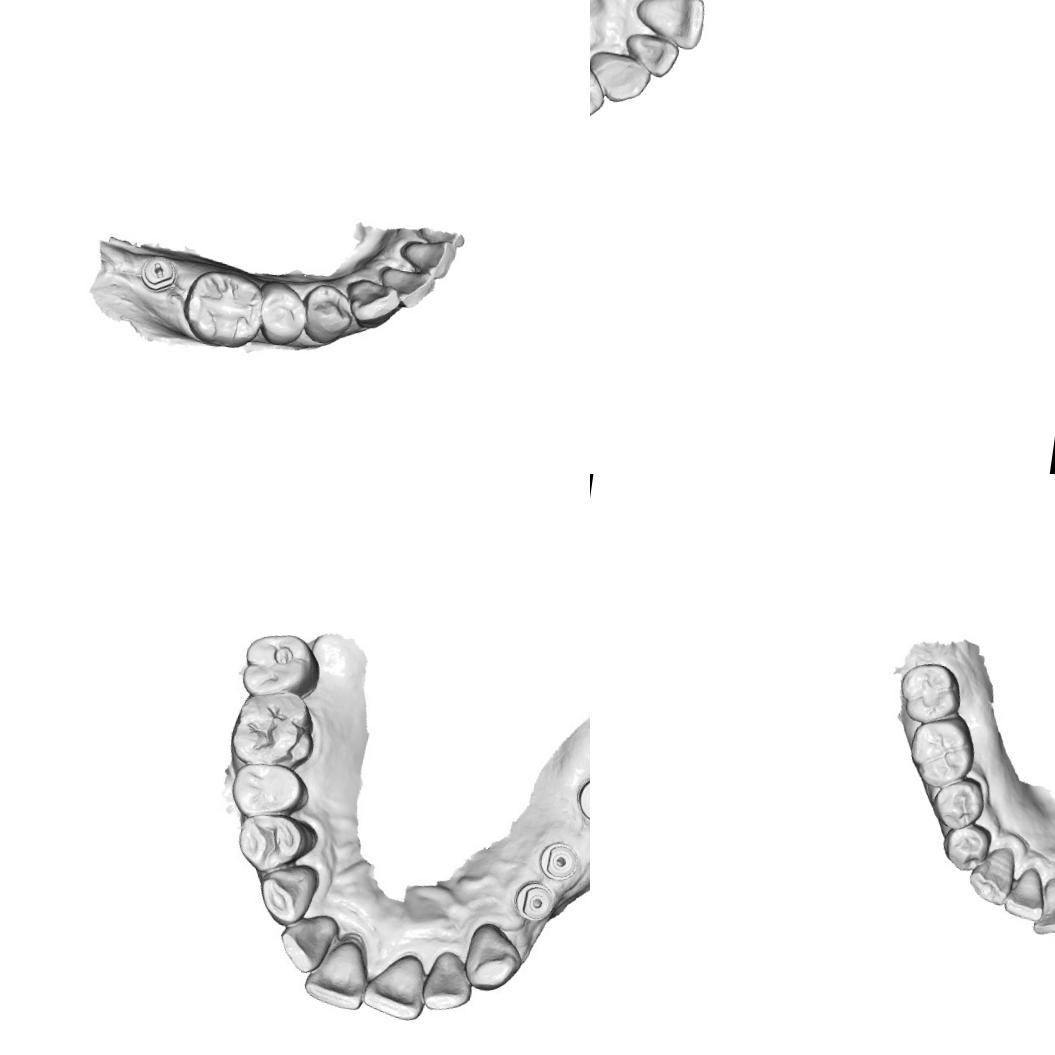canine: (461, 921, 527, 995), (590, 38, 657, 107), (255, 858, 318, 928), (341, 275, 404, 333), (964, 842, 1018, 908)
implant: (513, 878, 560, 933), (534, 836, 584, 880), (572, 771, 590, 823)
implant_minus: (137, 253, 180, 295)
incisor: (301, 937, 373, 1013), (358, 952, 433, 1020), (630, 0, 709, 53), (277, 911, 340, 976), (418, 951, 478, 1016), (375, 264, 438, 312), (623, 26, 682, 77), (397, 234, 458, 282), (1001, 864, 1049, 924), (1029, 872, 1055, 938)
molar: (226, 685, 323, 776), (176, 264, 268, 354), (236, 628, 326, 704), (903, 710, 980, 792), (895, 658, 966, 729)
premolar: (235, 806, 313, 880), (228, 757, 310, 824), (253, 278, 312, 350), (297, 280, 358, 348), (928, 772, 988, 834), (938, 818, 993, 876), (590, 56, 610, 121)
